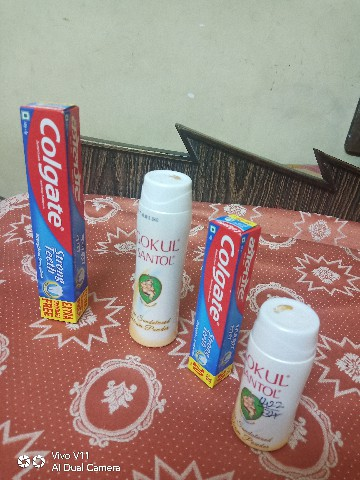colgatetoothpaste big: (20, 103, 105, 337)
colgatetoothpaste small: (186, 207, 263, 389)
gokulsantol big: (128, 159, 195, 364)
gokulsantol small: (226, 290, 319, 456)
